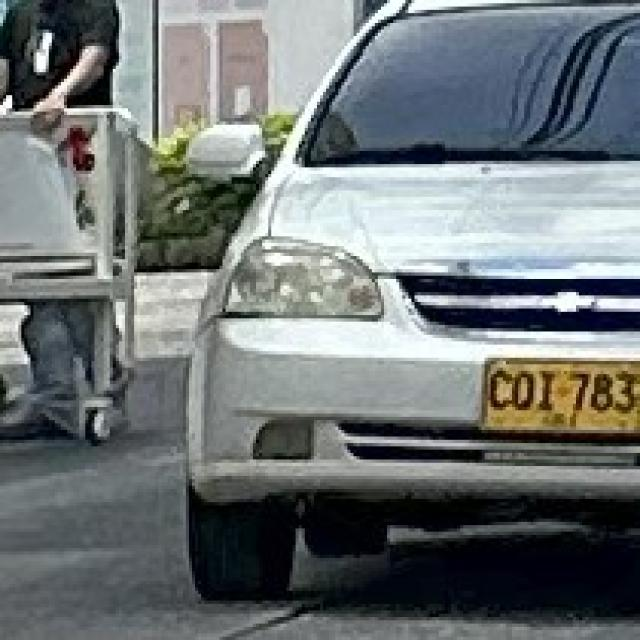number plate: (482, 358, 634, 427)
